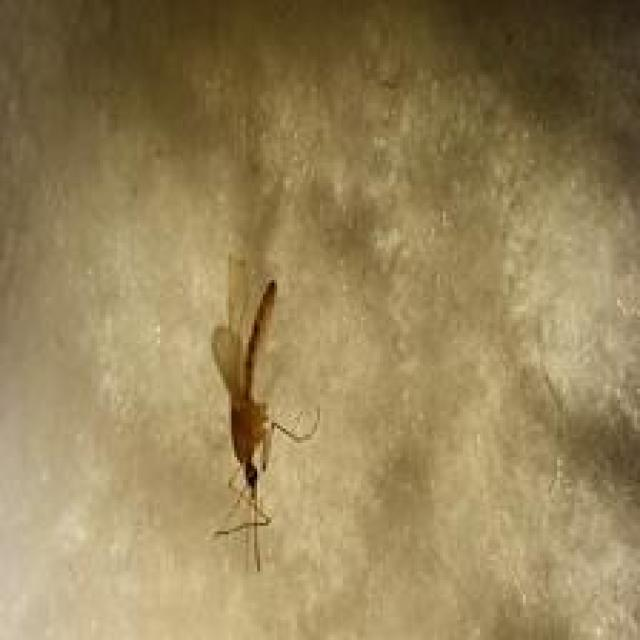Culex: (207, 252, 322, 572)
